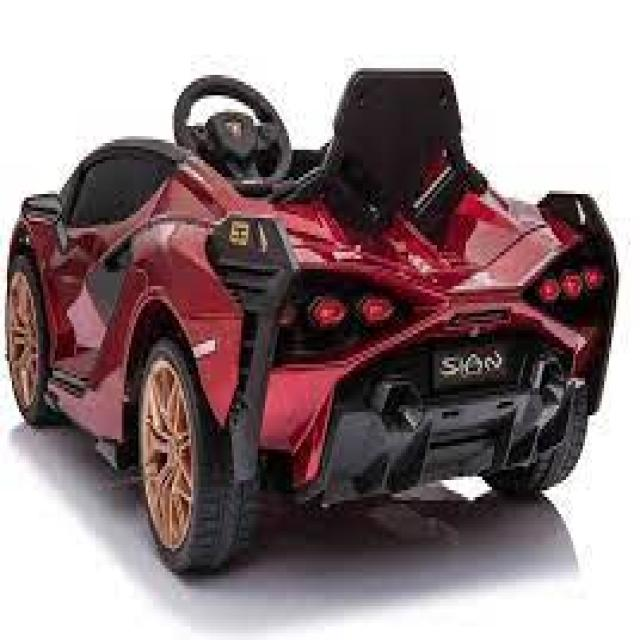Car: (2, 65, 618, 575)
